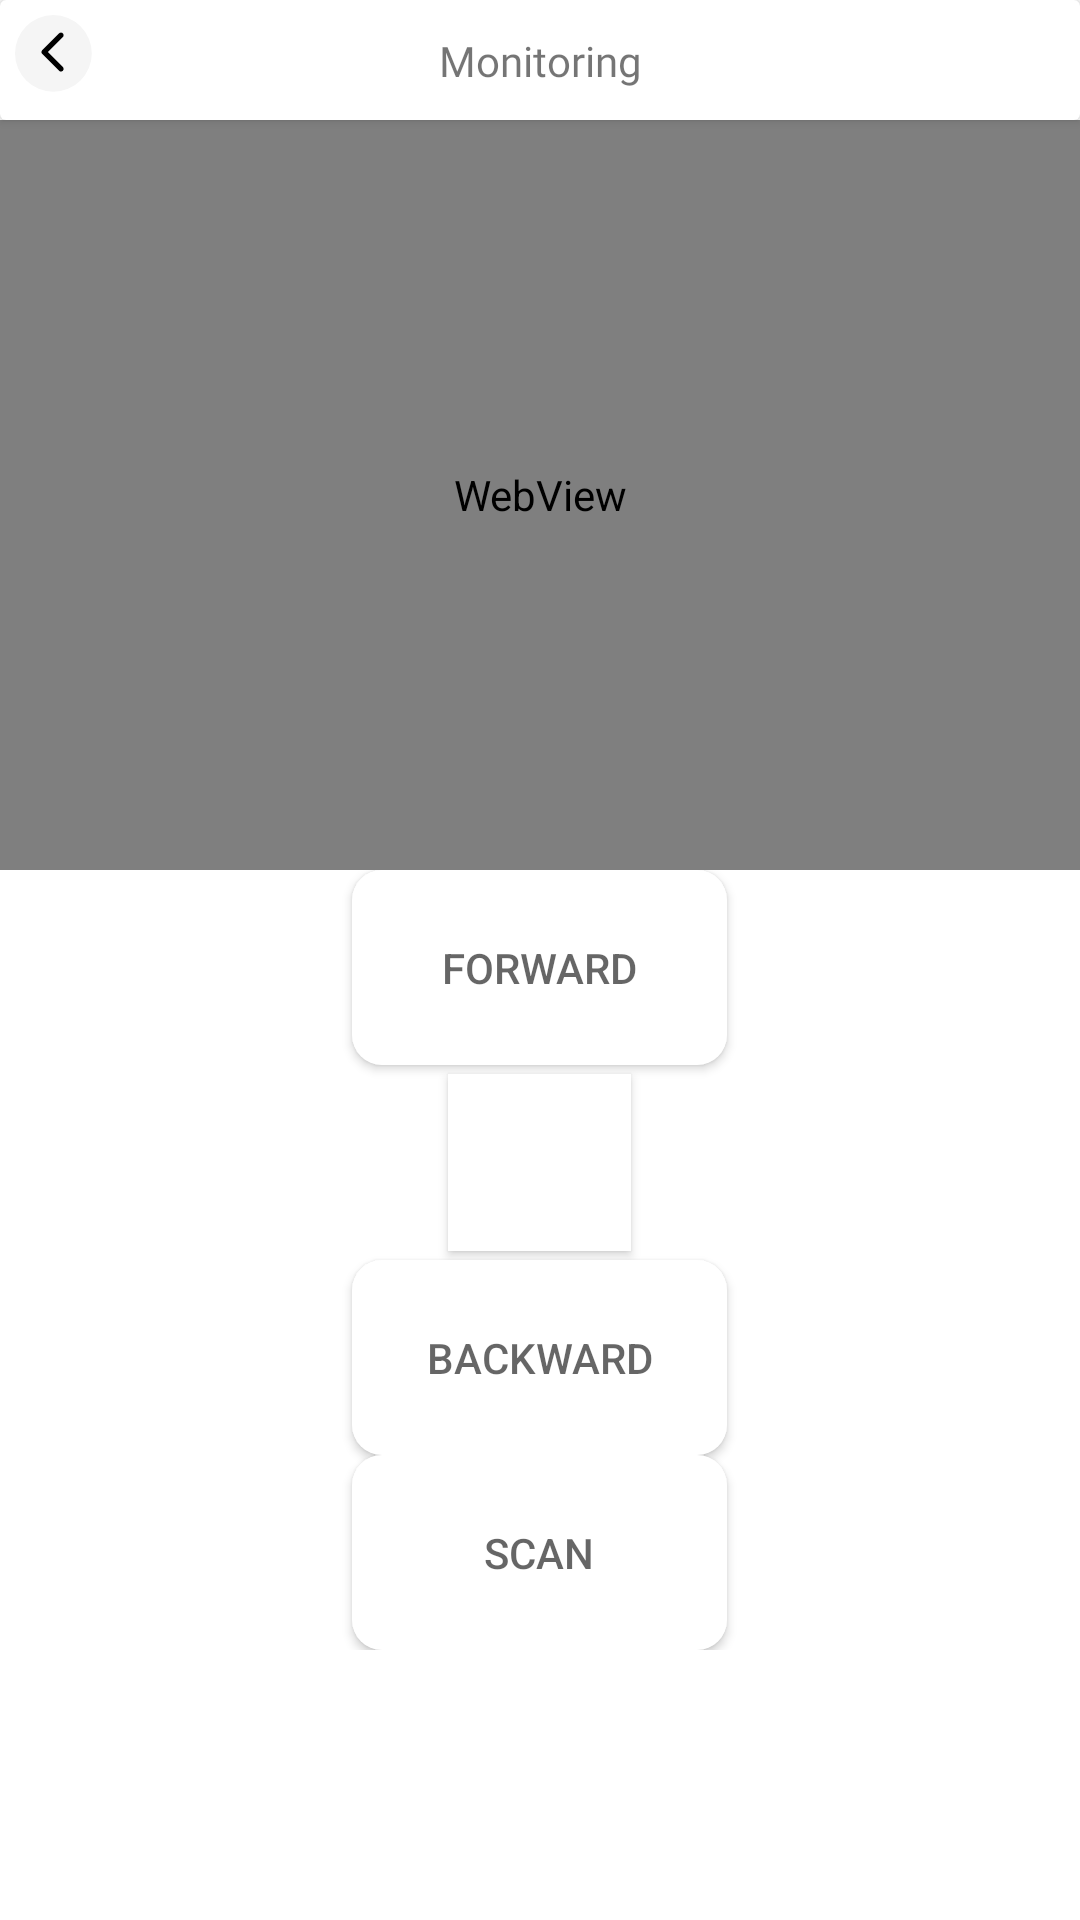

Icon click points for this 1080*1920 phone screenshot, format (x,y):
back: (32,36)
